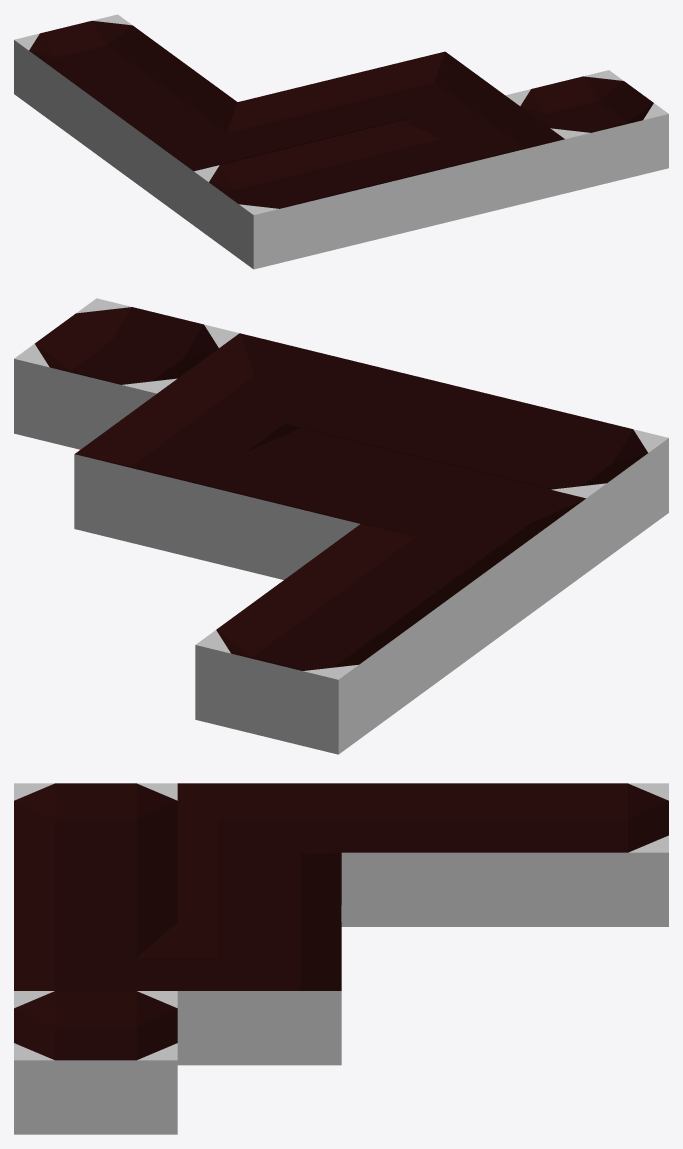
The model's file is 21f_path.obj.
The picture shows the model from 3 angles, top to bottom: view 1: azimuth 30°, elevation 25°; view 2: azimuth 150°, elevation 25°; view 3: azimuth 270°, elevation 25°; orthographic projection. The views are drawn at different scales.
Parts seen in each view (by area): view 1: foil.ending.0.1_ending.383, foil.through.1.1_through.194, foil.hole.3.1_Cube.193, foil.corner.2.1_corner.956, foil.ending.0.4_ending.384, foil.through.0.3_through.193, foil.corner.2.2_corner.957, foil.corner.0.2_corner.955, foil.through.1.2_through.195; view 2: foil.ending.0.4_ending.384, foil.corner.2.2_corner.957, foil.through.1.2_through.195, foil.hole.3.1_Cube.193, foil.corner.0.2_corner.955, foil.through.0.3_through.193, foil.ending.0.1_ending.383, foil.corner.2.1_corner.956, foil.through.1.1_through.194; view 3: foil.through.0.3_through.193, foil.ending.0.4_ending.384, foil.hole.3.1_Cube.193, foil.corner.2.2_corner.957, foil.corner.0.2_corner.955, foil.ending.0.1_ending.383, foil.through.1.2_through.195, foil.through.1.1_through.194, foil.corner.2.1_corner.956.
Boxes of the visible parts, box(x1,y1,x2,y2) form: foil.ending.0.1_ending.383: box(193, 146, 357, 269); foil.through.1.1_through.194: box(298, 120, 461, 243); foil.hole.3.1_Cube.193: box(505, 70, 668, 193); foil.corner.2.1_corner.956: box(402, 95, 565, 218); foil.ending.0.4_ending.384: box(14, 14, 177, 137); foil.through.0.3_through.193: box(74, 58, 237, 181); foil.corner.2.2_corner.957: box(342, 51, 504, 127); foil.corner.0.2_corner.955: box(134, 102, 295, 225); foil.through.1.2_through.195: box(238, 77, 399, 148); foil.ending.0.4_ending.384: box(195, 584, 420, 754); foil.corner.2.2_corner.957: box(74, 394, 299, 563); foil.through.1.2_through.195: box(217, 428, 442, 579); foil.hole.3.1_Cube.193: box(14, 298, 239, 449); foil.corner.0.2_corner.955: box(361, 463, 586, 633); foil.through.0.3_through.193: box(278, 524, 503, 693); foil.ending.0.1_ending.383: box(446, 403, 668, 572); foil.corner.2.1_corner.956: box(157, 333, 382, 438); foil.through.1.1_through.194: box(303, 368, 525, 466); foil.through.0.3_through.193: box(341, 783, 505, 926); foil.ending.0.4_ending.384: box(505, 783, 668, 926); foil.hole.3.1_Cube.193: box(14, 991, 177, 1134); foil.corner.2.2_corner.957: box(177, 922, 341, 1065); foil.corner.0.2_corner.955: box(177, 783, 341, 871); foil.ending.0.1_ending.383: box(14, 783, 177, 871); foil.through.1.2_through.195: box(177, 853, 341, 940); foil.through.1.1_through.194: box(14, 853, 177, 940); foil.corner.2.1_corner.956: box(14, 922, 177, 990).
Size of the model in its own units: 8 by 1 by 8.
